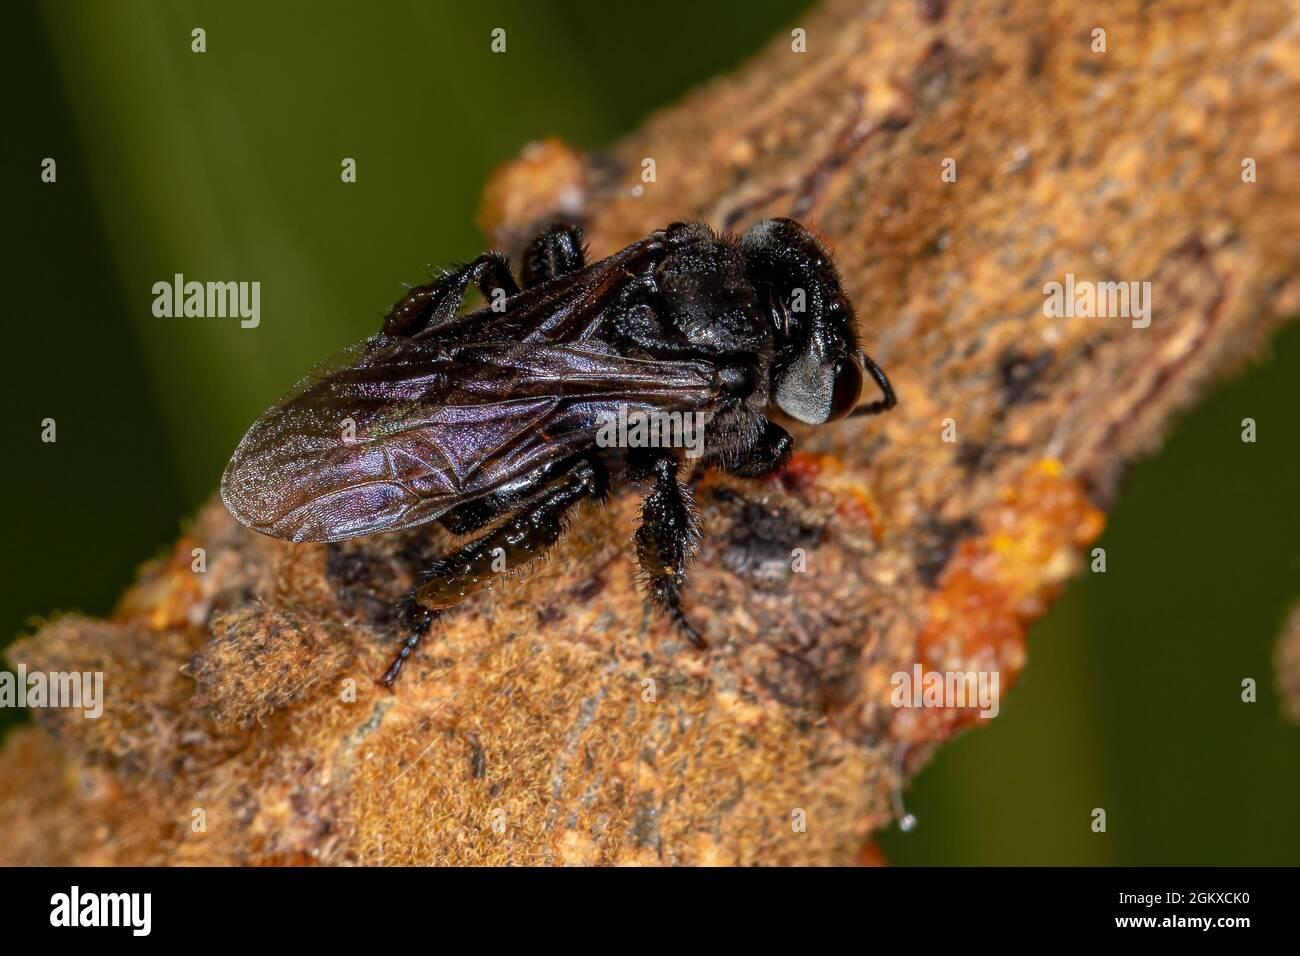Meliponula: (232, 180, 883, 617)
